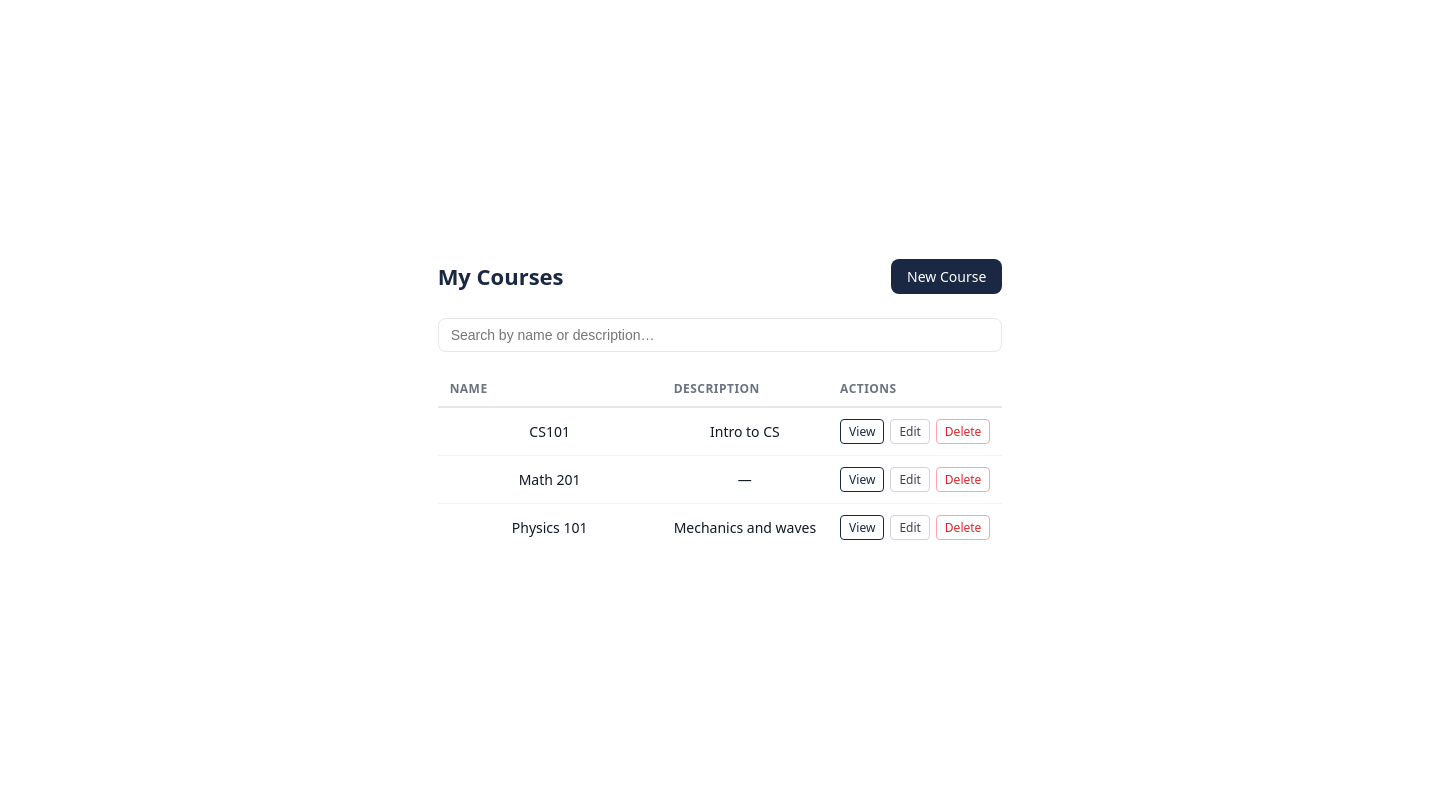
it: MyCourseView › opens delete modal when Delete is clicked
The image size is (1440, 810).
Click the button with test id "delete-course-1" at [963, 432], box [936,419,990,444]
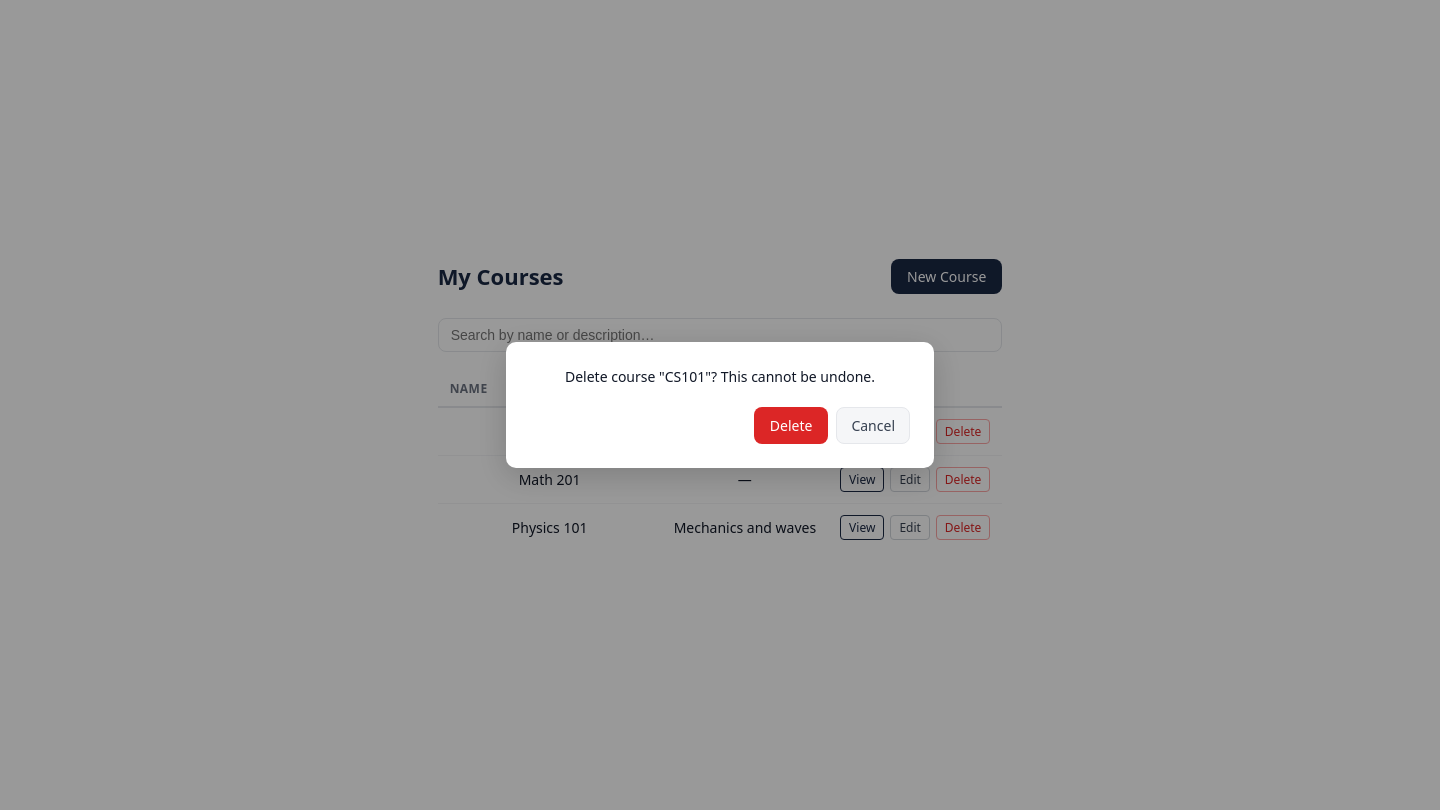
Result: the element with test id "delete-modal" is shown
